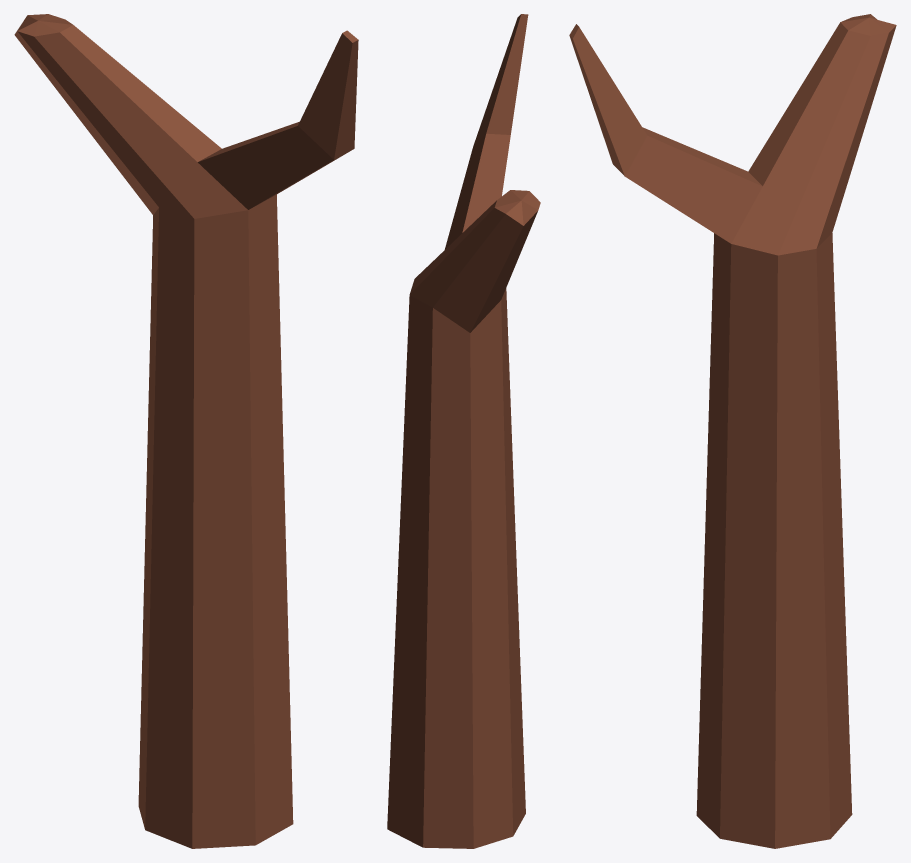
File: Tree_04_spring_mat.fbx
The picture shows the model from 3 angles, left to right: view 1: azimuth 30°, elevation 25°; view 2: azimuth 150°, elevation 25°; view 3: azimuth 270°, elevation 25°; orthographic projection. The views are drawn at different scales.
Parts seen in each view (by area): view 1: Tree_04_spring_mat; view 2: Tree_04_spring_mat; view 3: Tree_04_spring_mat.
Part boxes in pixels (bbox=[...]): Tree_04_spring_mat: bbox=[14, 14, 358, 848]; Tree_04_spring_mat: bbox=[387, 14, 540, 848]; Tree_04_spring_mat: bbox=[569, 14, 896, 848].
Size of the model in its own units: 1.63 by 6.09 by 2.25.
